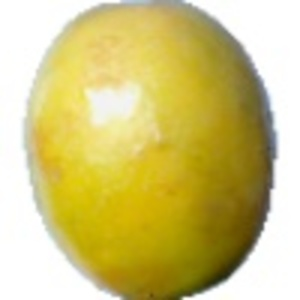maracujá: (22, 1, 281, 300)
